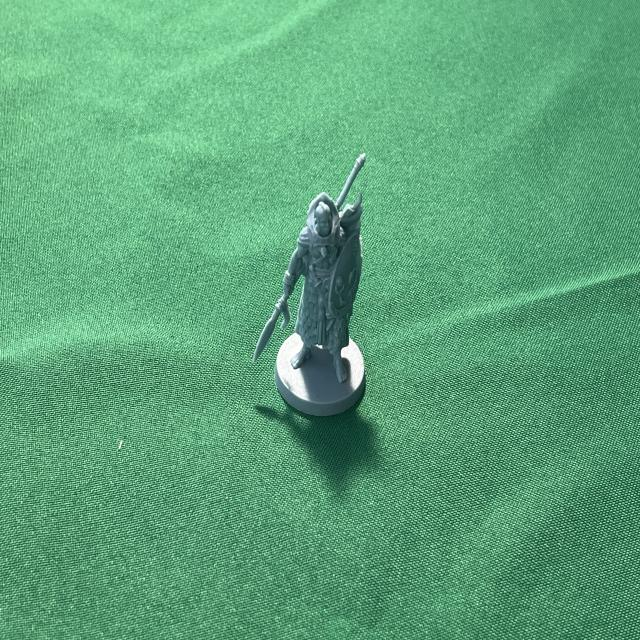isis_follower: (243, 146, 377, 420)
